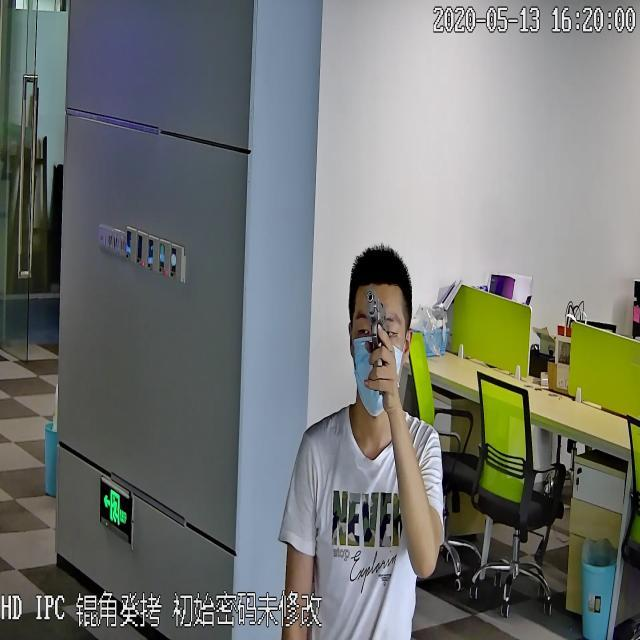gun: (366, 279, 390, 398)
